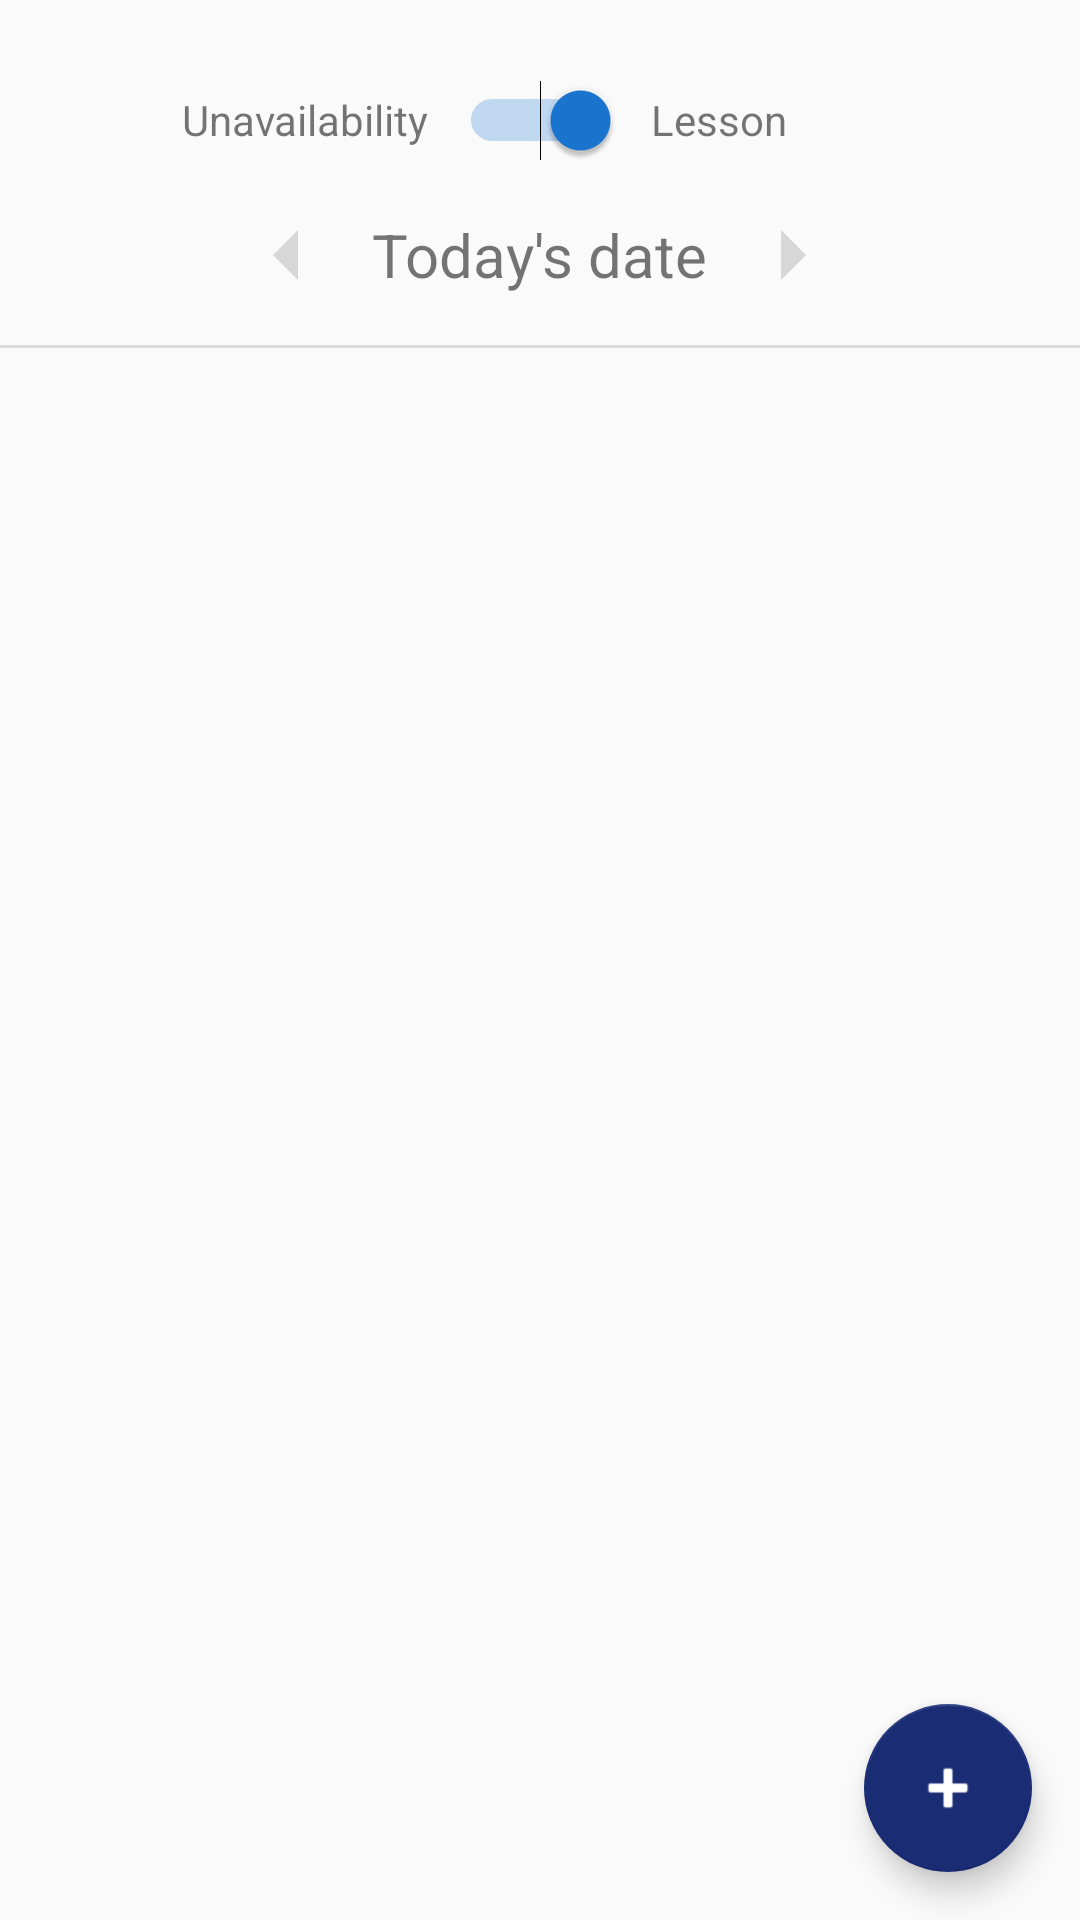

Named icons in this screenshot (1080x1920) and their centers, point (x, y):
add: point (948, 1788)
arrow left: point (286, 255)
arrow right: point (793, 255)
